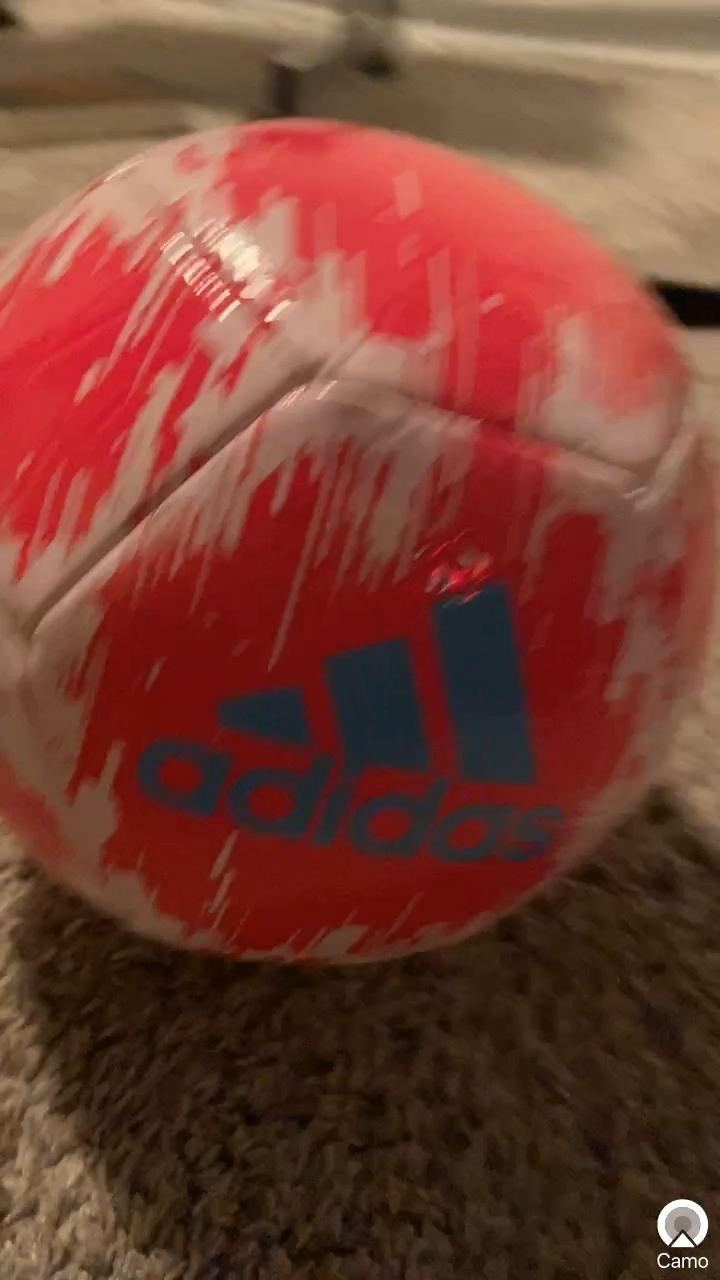Soccer_Ball: (1, 102, 720, 989)
